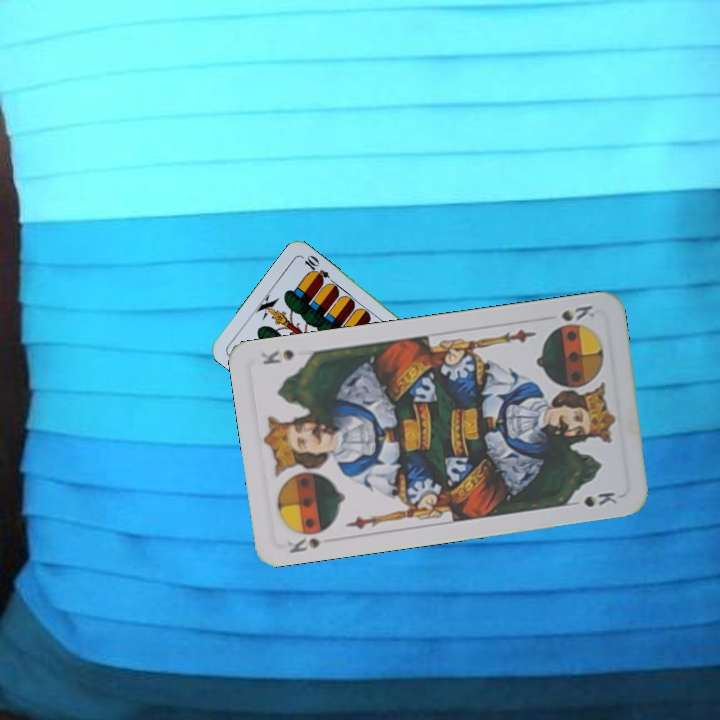SK: (284, 524, 333, 556), (557, 301, 599, 324)
